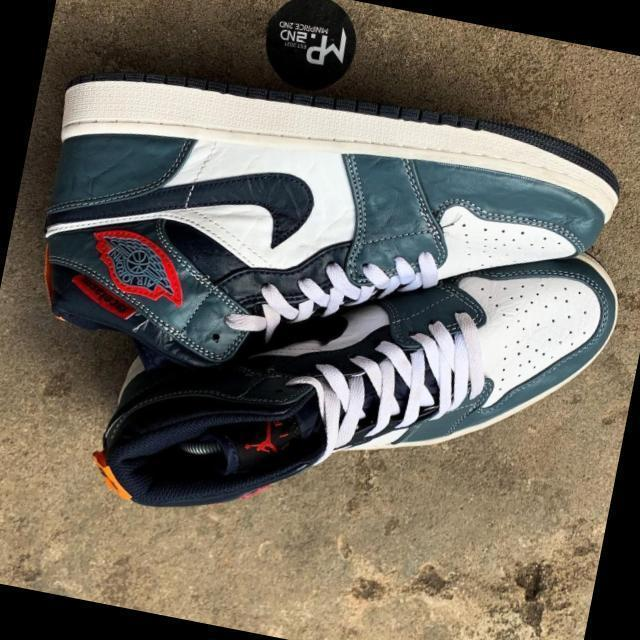nike fake jordan 1: (12, 34, 640, 455), (93, 168, 629, 588)
